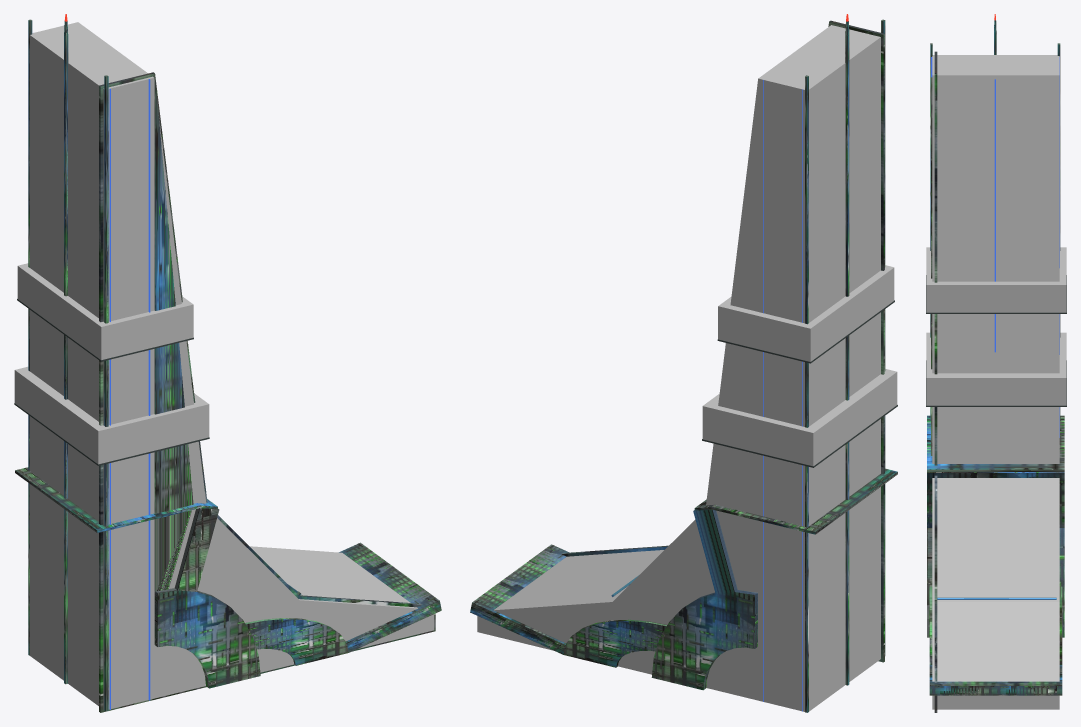
File: building333.gltf
3 views of the same model, side by side, from view 1: azimuth 30°, elevation 25°; view 2: azimuth 150°, elevation 25°; view 3: azimuth 270°, elevation 25° (orthographic). The views are drawn at different scales.
Visible parts, largest first — view 1: 0_curve_.039, Circle.001, Plane.043, Plane.054, Plane.051, Circle.002, 0_curve_.003, Plane.041, Plane.044, Plane.049, Plane.042, Plane.045; view 2: 0_curve_.039, Circle.001, Plane.054, Plane.051, Circle.002, 0_curve_.003, Plane.044, Plane.042; view 3: 0_curve_.039, Plane.054, Plane.051, Circle.001, Circle.002, 0_curve_.003, Plane.043, Plane.050, Plane.053, 0_curve_.002, Plane.052, Plane.042 (+2 smaller).
Boxes of the visible parts, left/top/right/bottom form: 0_curve_.039: left=30, top=22, right=434, bottom=709; Circle.001: left=15, top=467, right=260, bottom=688; Plane.043: left=154, top=80, right=193, bottom=591; Plane.054: left=14, top=366, right=209, bottom=464; Plane.051: left=17, top=263, right=193, bottom=359; Circle.002: left=245, top=542, right=441, bottom=665; 0_curve_.003: left=99, top=72, right=435, bottom=712; Plane.041: left=104, top=75, right=108, bottom=711; Plane.044: left=64, top=14, right=68, bottom=684; Plane.049: left=148, top=79, right=150, bottom=700; Plane.042: left=28, top=19, right=32, bottom=655; Plane.045: left=109, top=88, right=110, bottom=709; 0_curve_.039: left=477, top=25, right=880, bottom=711; Circle.001: left=651, top=468, right=897, bottom=690; Plane.054: left=702, top=369, right=897, bottom=466; Plane.051: left=718, top=265, right=894, bottom=361; Circle.002: left=470, top=544, right=666, bottom=667; 0_curve_.003: left=561, top=20, right=884, bottom=662; Plane.044: left=845, top=14, right=849, bottom=685; Plane.042: left=805, top=75, right=808, bottom=712; 0_curve_.039: left=932, top=55, right=1059, bottom=709; Plane.054: left=926, top=332, right=1066, bottom=405; Plane.051: left=926, top=247, right=1066, bottom=312; Circle.001: left=927, top=415, right=1064, bottom=637; Circle.002: left=929, top=586, right=1062, bottom=695; 0_curve_.003: left=934, top=51, right=937, bottom=712; Plane.043: left=931, top=77, right=932, bottom=455; Plane.050: left=994, top=79, right=995, bottom=352; Plane.053: left=926, top=360, right=1066, bottom=406; 0_curve_.002: left=937, top=597, right=1056, bottom=599; Plane.052: left=926, top=275, right=1066, bottom=313; Plane.042: left=1057, top=43, right=1060, bottom=420.
Size of the model in its own units: 8.96 by 16.62 by 3.77.
